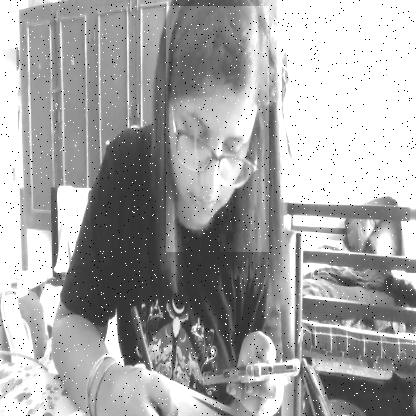Normal: (166, 6, 269, 252)
